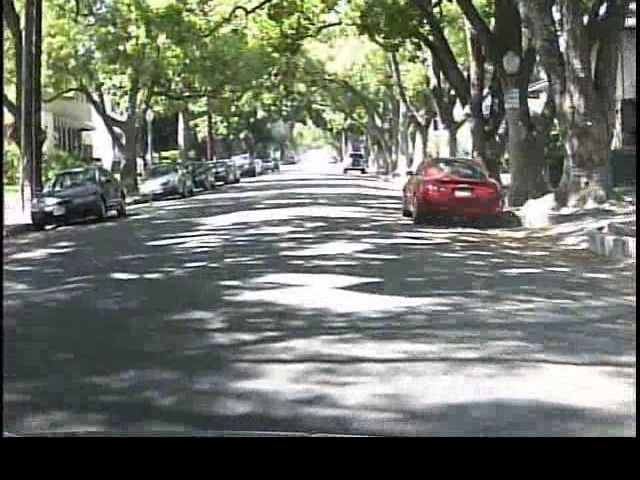person: (132, 148, 153, 191)
